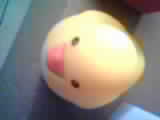duck: (33, 14, 144, 109)
